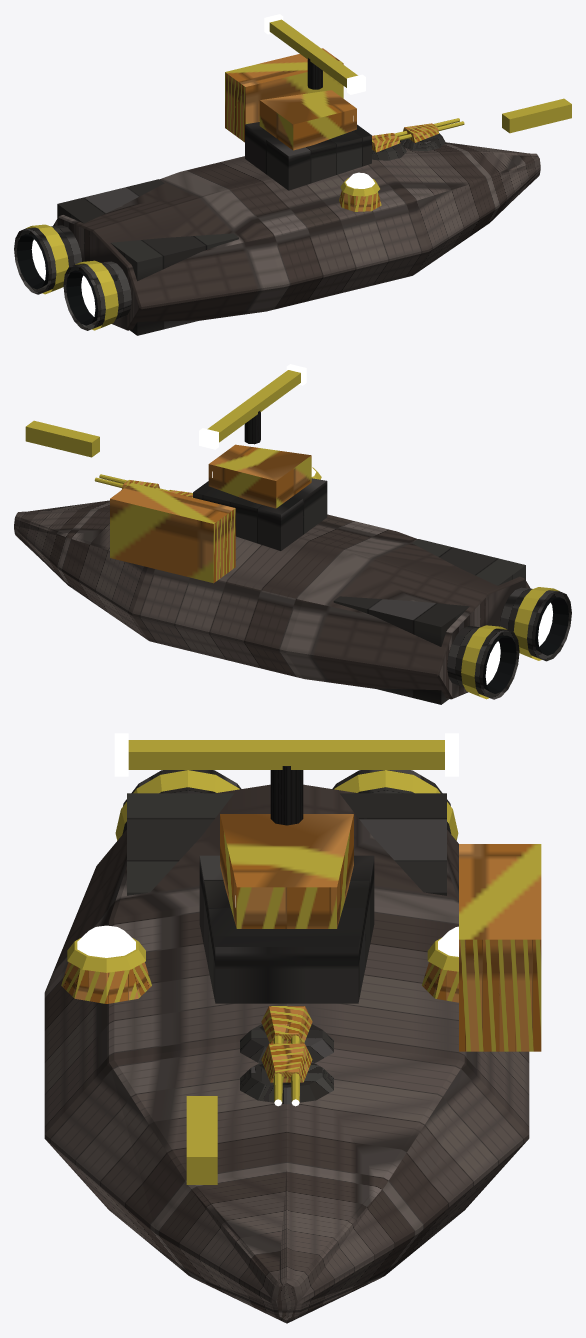
The model's file is command_ship.glb.
The picture shows the model from 3 angles, top to bottom: view 1: azimuth 30°, elevation 25°; view 2: azimuth 150°, elevation 25°; view 3: azimuth 270°, elevation 25°; orthographic projection. The views are drawn at different scales.
Parts seen in each view (by area): view 1: hull_body, engine_block, sensor_tower, weapon_turrets, shield_domes; view 2: hull_body, engine_block, sensor_tower, weapon_turrets; view 3: hull_body, sensor_tower, engine_block, shield_domes, weapon_turrets.
Boxes of the visible parts, x1,y1,x2,y2 form: hull_body: (53,48,571,330); engine_block: (14,179,238,335); sensor_tower: (245,14,371,190); weapon_turrets: (372,118,464,160); shield_domes: (259,121,381,211); hull_body: (14,420,530,699); engine_block: (333,539,571,704); sensor_tower: (193,364,327,550); weapon_turrets: (94,474,192,497); hull_body: (44,784,541,1323); sensor_tower: (114,733,458,1003); engine_block: (115,770,458,895); shield_domes: (61,925,458,1003); weapon_turrets: (240,1006,333,1106).
Bounding box in the file's own units: 56 × 24.26 × 24.53.
Materials: 1 (1 with a texture image).
